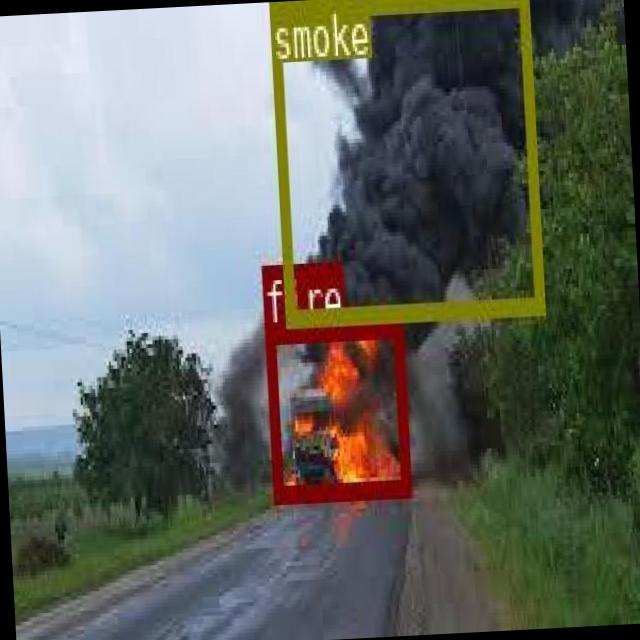fire: (264, 316, 410, 499)
smoke: (268, 0, 543, 326)
